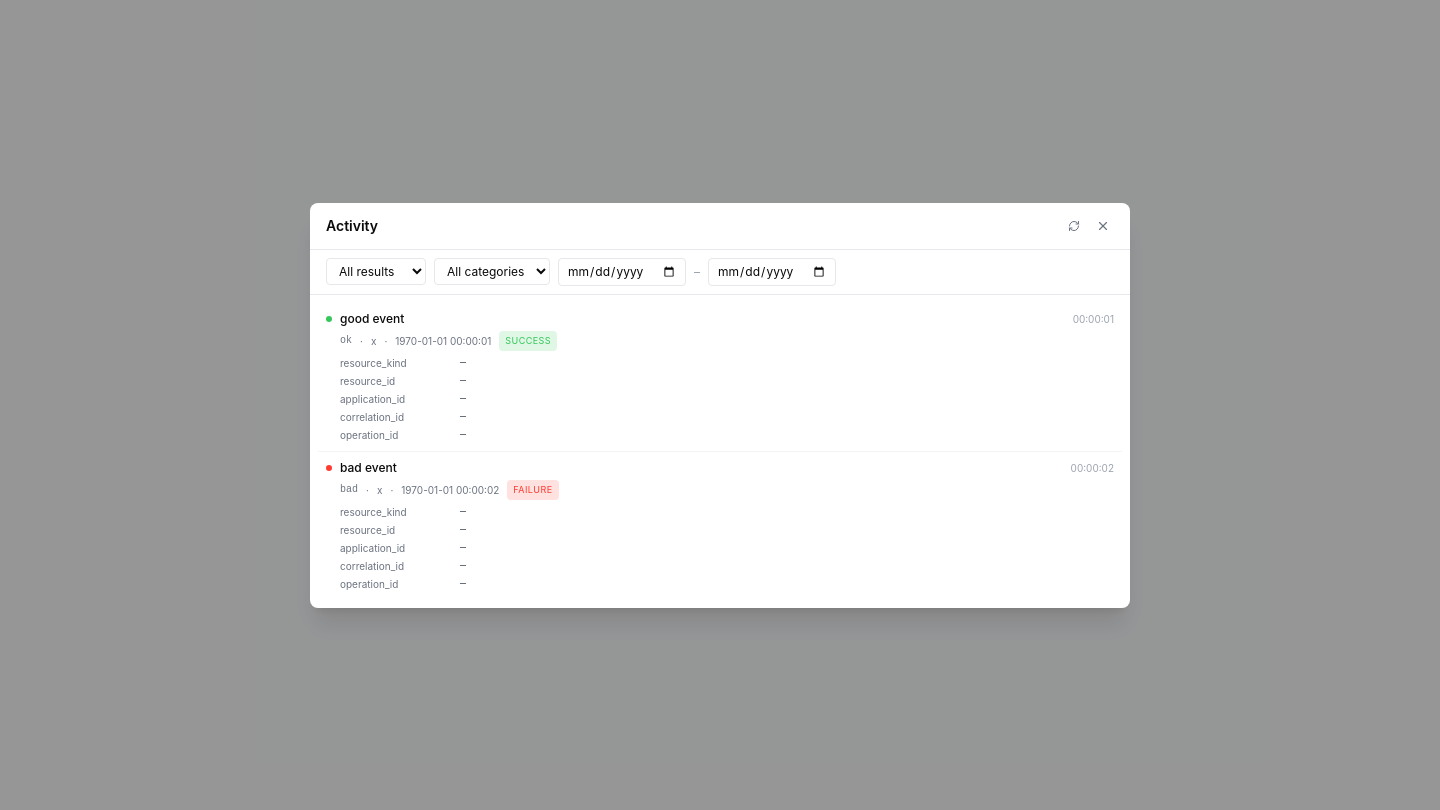
<ActivityDialog> › filters to errors only
The width and height of the screenshot is (1440, 810).
Expected: the text "good event" is shown, [340,310,404,326]
Expected: the text "bad event" is shown, [340,460,397,474]
Select "Errors only" in the dropdown named "Filter by result" at (376, 272), box [326,258,426,285]
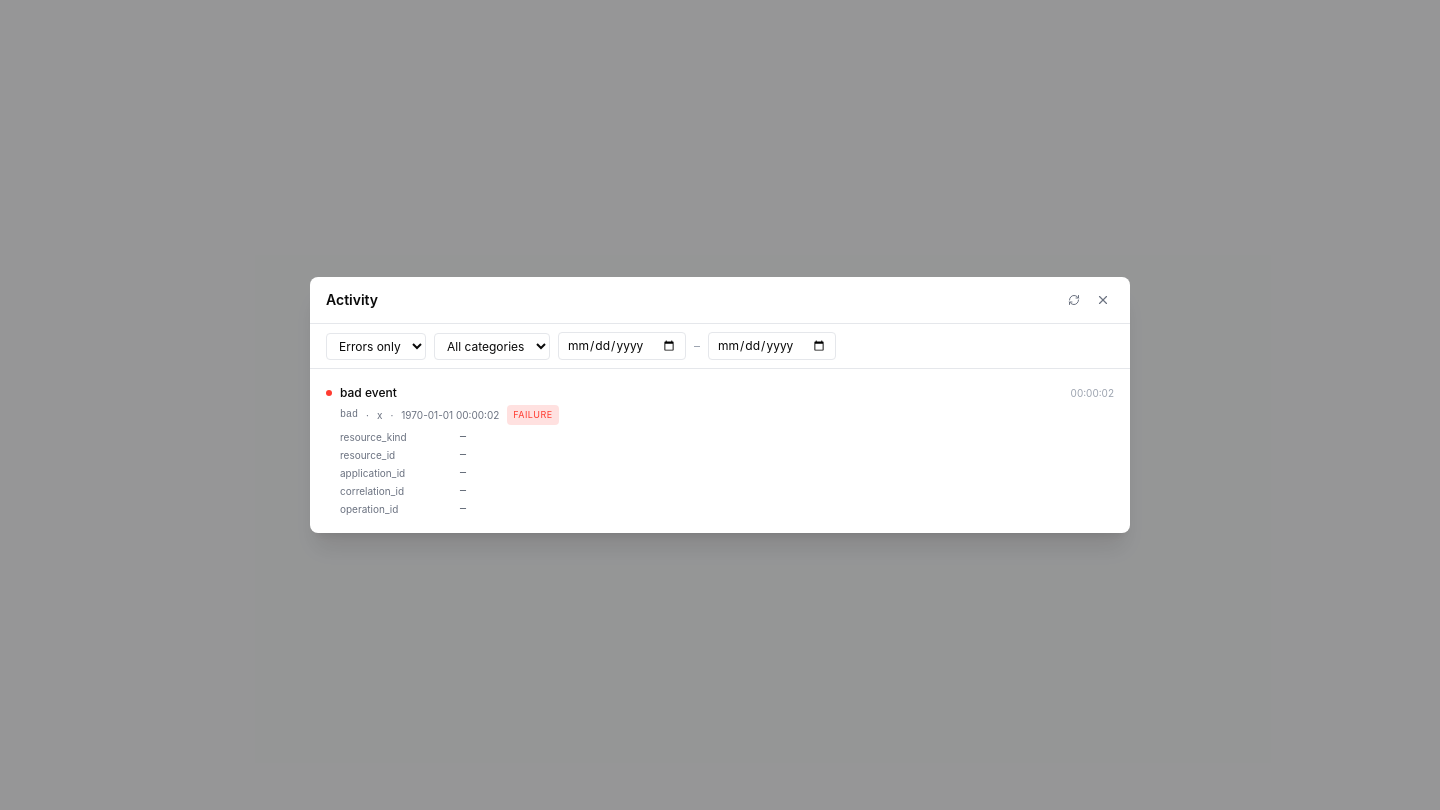
Expected: the text "bad event" is shown, [340,385,397,400]
Now the text "good event" is gone
